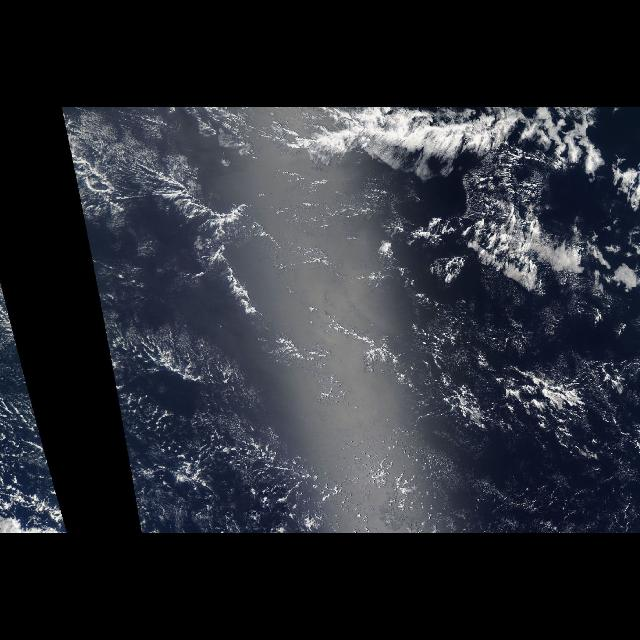Sugar: (196, 401, 530, 533)
